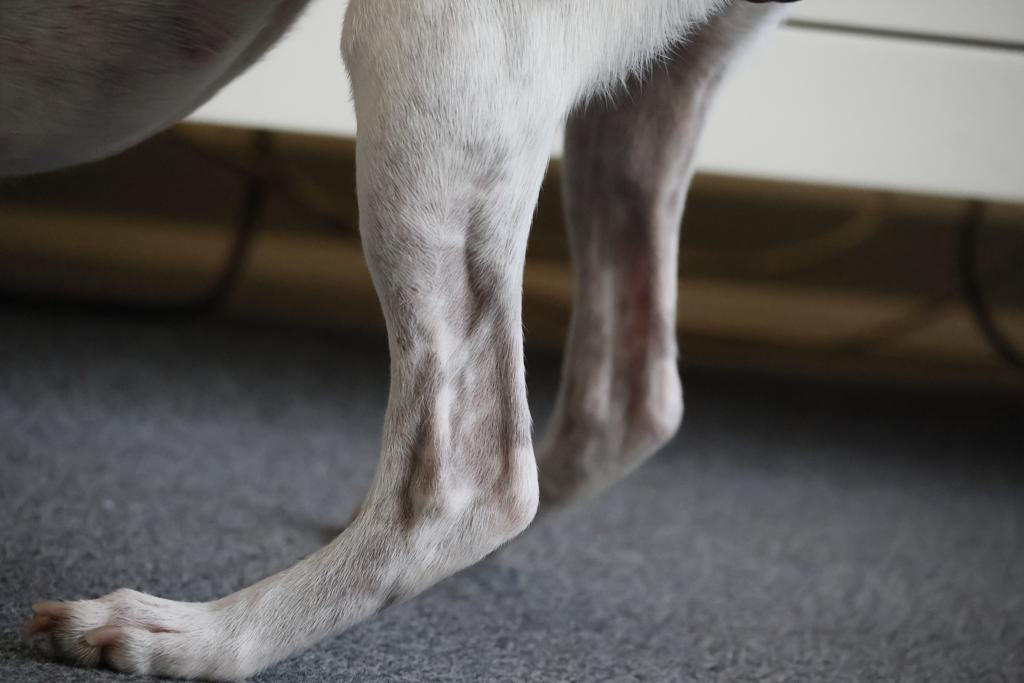Dog: (0, 0, 813, 683)
